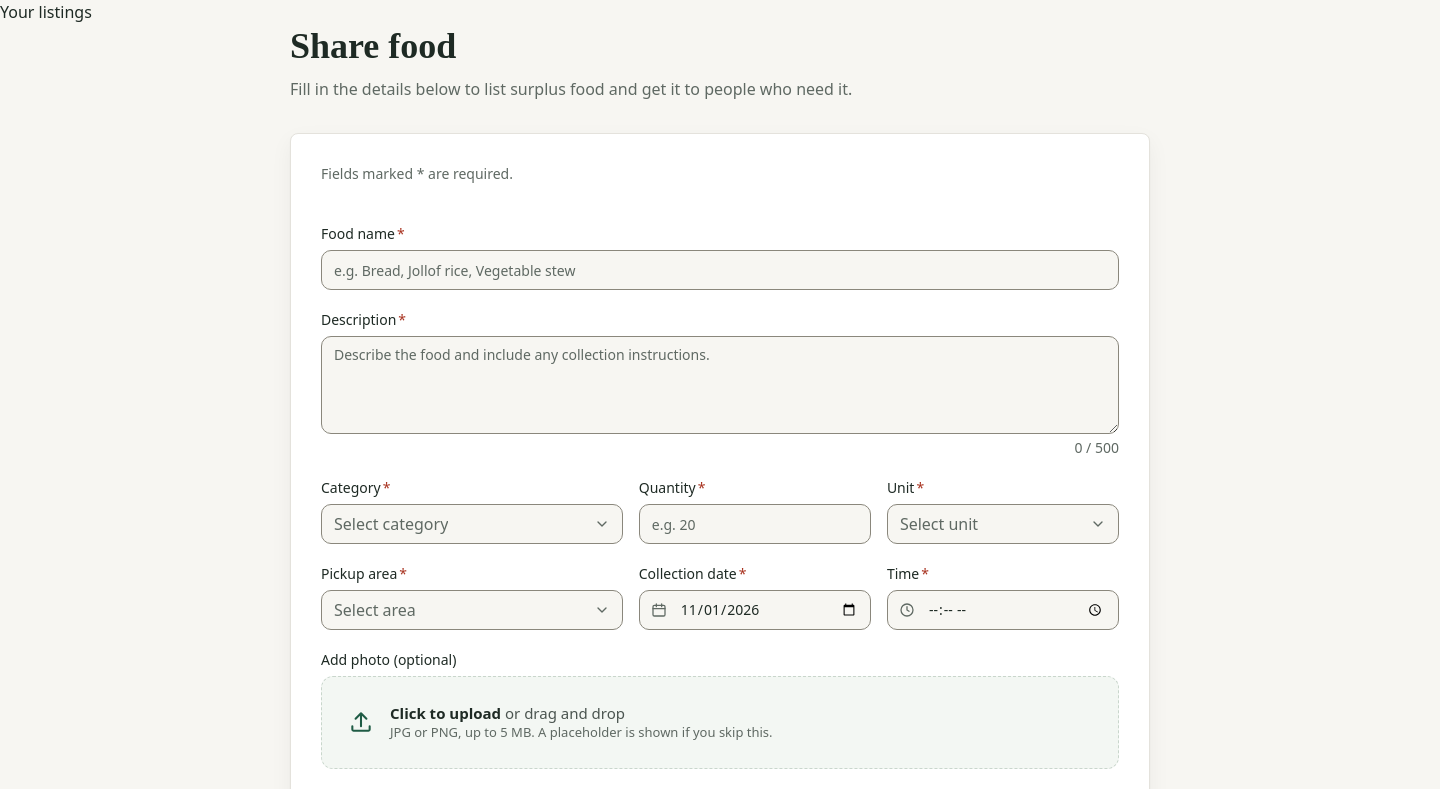
Scenario: Share food: leaving with changes › asks before leaving with changes; Stay keeps them
This screenshot has width=1440, height=789.
Type "Puff-puff" into the field labelled "Food name*" at (720,270), box [321, 250, 1119, 290]
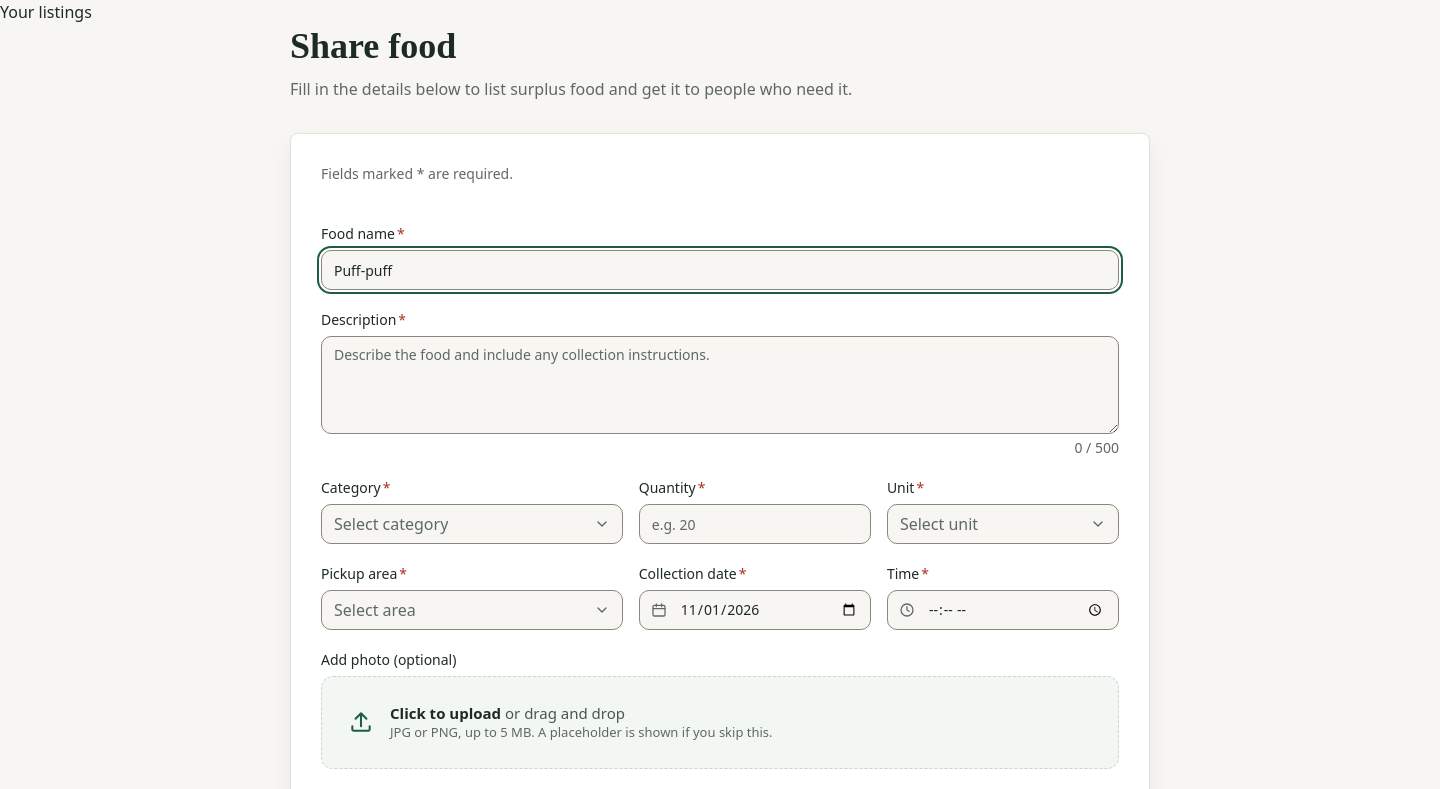
Click the link "Your listings" at (46,12), box [0, 1, 92, 23]
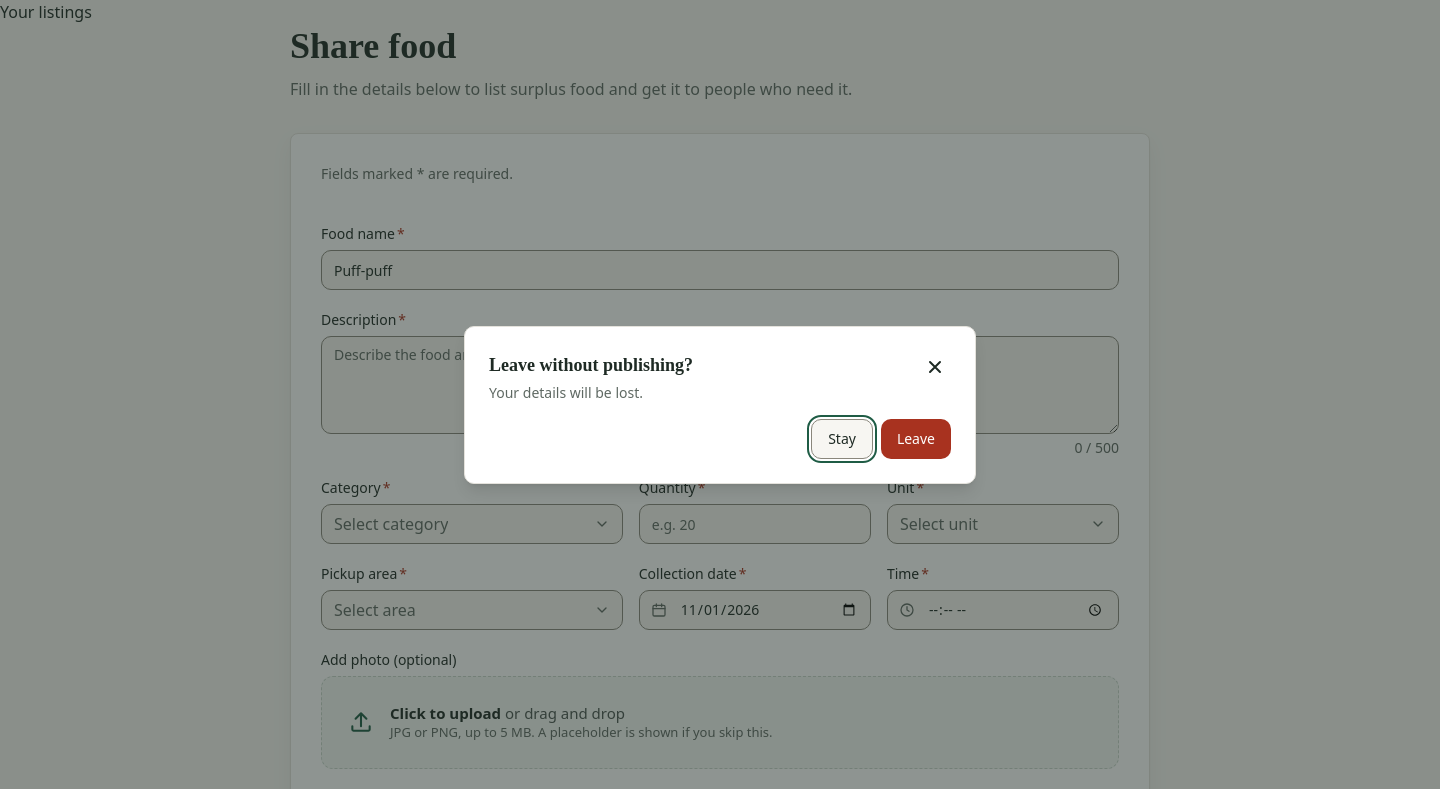
Click the button "Stay" at (842,439), box [811, 419, 873, 459]
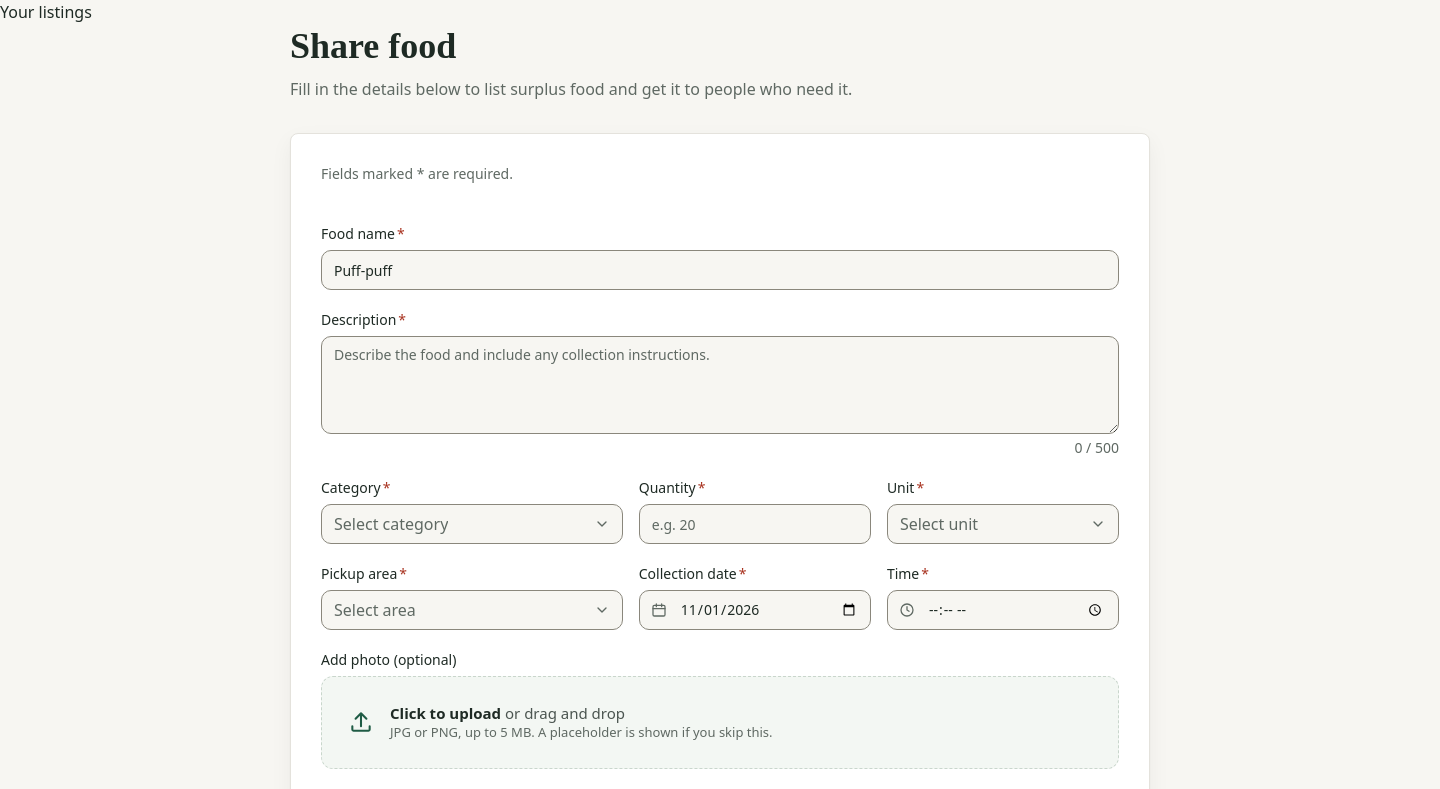
Result: the dialog is gone
